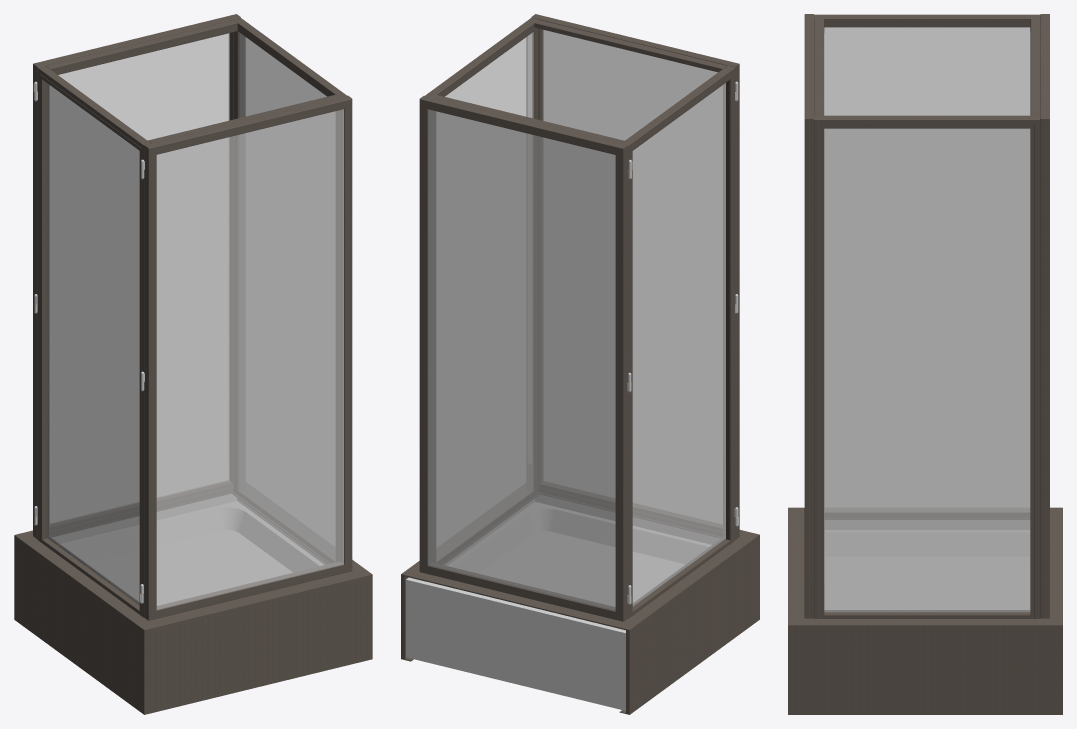
File: vitrine.glb
3 views of the same model, side by side, from view 1: azimuth 30°, elevation 25°; view 2: azimuth 150°, elevation 25°; view 3: azimuth 270°, elevation 25° (orthographic). The views are drawn at different scales.
Visible parts, largest first — view 1: Object_14, Object_18, Object_20, Object_12; view 2: Object_14, Object_18, Object_12, Object_20; view 3: Object_14, Object_18, Object_12, Object_20, Object_6.
Boxes of the visible parts, x1,y1,x2,y2 form: Object_14: (47,32,343,609); Object_18: (14,14,372,714); Object_20: (141,17,352,620); Object_12: (52,494,326,605); Object_14: (428,29,725,611); Object_18: (401,14,759,714); Object_12: (406,495,720,710); Object_20: (425,17,739,562); Object_14: (824,27,1030,612); Object_18: (788,14,1062,714); Object_12: (824,520,1029,609); Object_20: (804,27,1040,618); Object_6: (824,129,824,584).
Bounding box in the file's own units: 986 × 2302 × 973.
Materials: 8 (2 with a texture image).
